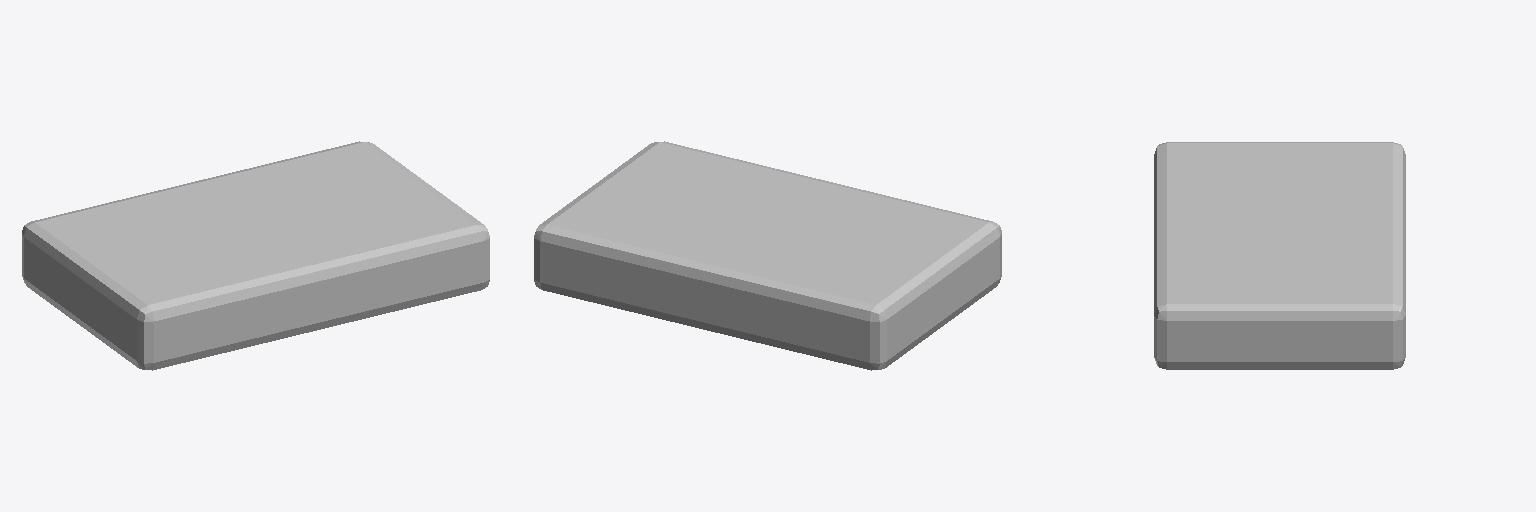
File: Sponge.obj
The picture shows the model from 3 angles: view 1: azimuth 30°, elevation 25°; view 2: azimuth 150°, elevation 25°; view 3: azimuth 270°, elevation 25°; orthographic projection.
Parts seen in each view (by area): view 1: Sponge; view 2: Sponge; view 3: Sponge.
Boxes of the visible parts, x1,y1,x2,y2 form: Sponge: [22, 141, 489, 370]; Sponge: [534, 141, 1001, 370]; Sponge: [1154, 142, 1405, 369].
Bounding box in the file's own units: 0.6308 × 0.111 × 0.3912.